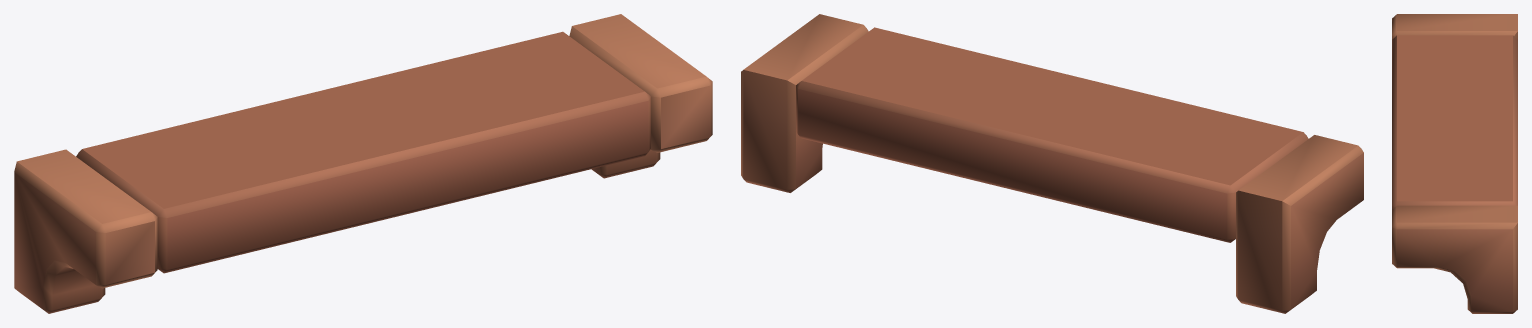
The model's file is kay-prateleira-parede.gltf.
The picture shows the model from 3 angles, left to right: view 1: azimuth 30°, elevation 25°; view 2: azimuth 150°, elevation 25°; view 3: azimuth 270°, elevation 25°; orthographic projection. The views are drawn at different scales.
Visible parts, largest first — view 1: shelf_A_big; view 2: shelf_A_big; view 3: shelf_A_big.
Part boxes in pixels (x1=…): shelf_A_big: x1=14, y1=14, x2=712, y2=313; shelf_A_big: x1=741, y1=14, x2=1363, y2=313; shelf_A_big: x1=1392, y1=14, x2=1517, y2=313.
Size of the model in its own units: 1.3 by 0.2599 by 0.325.
Materials: 1 (1 with a texture image).
